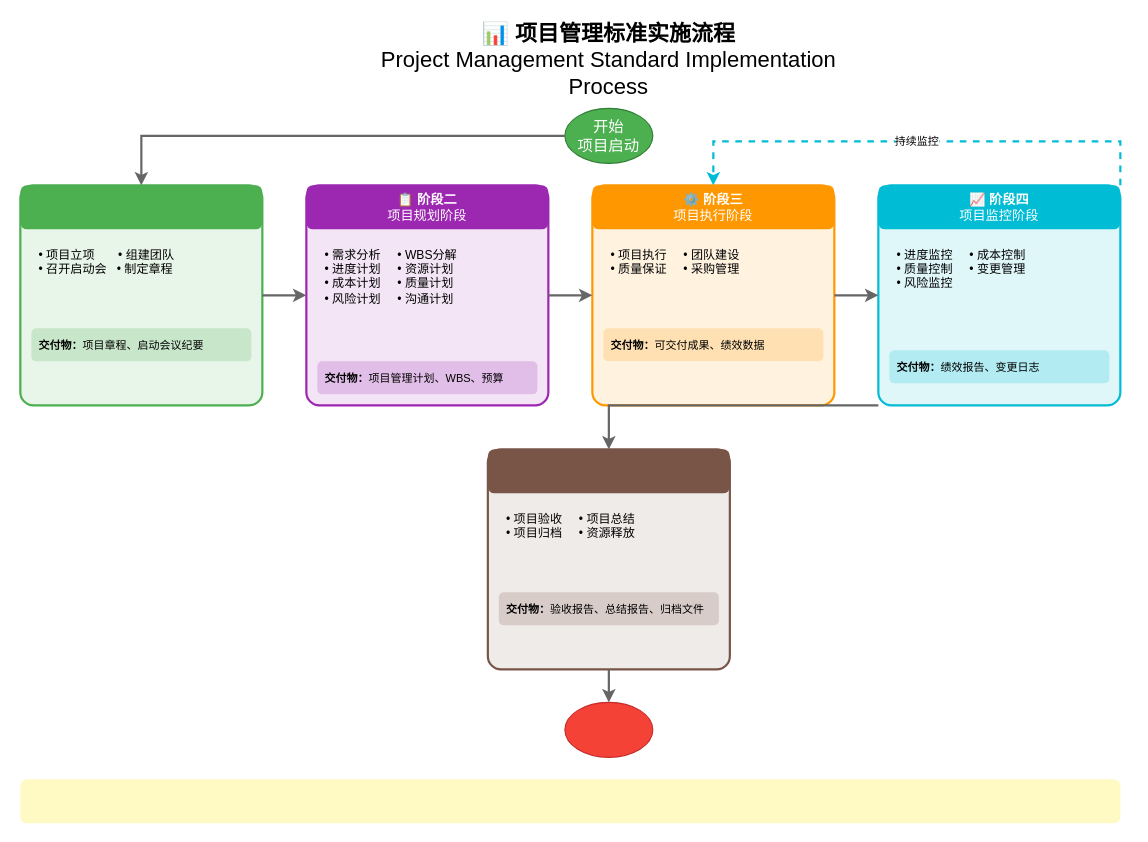
The diagram is 1148 pixels wide and 842 high, and some of its shapes have lost their labels. Here are the shapes that lost their labels. From the top down, the centre of each, then its label:
At point 141,207: "🚀 阶段一 项目启动阶段".
At point 608,471: "✅ 阶段五 项目收尾阶段".
At point 608,729: "结束 项目完成".
At point 570,801: "💡 说明： 项目监控贯穿整个项目生命周期，形成PDCA循环。任何阶段发现问题都可以通过变更管理回到相应阶段进行调整。".
